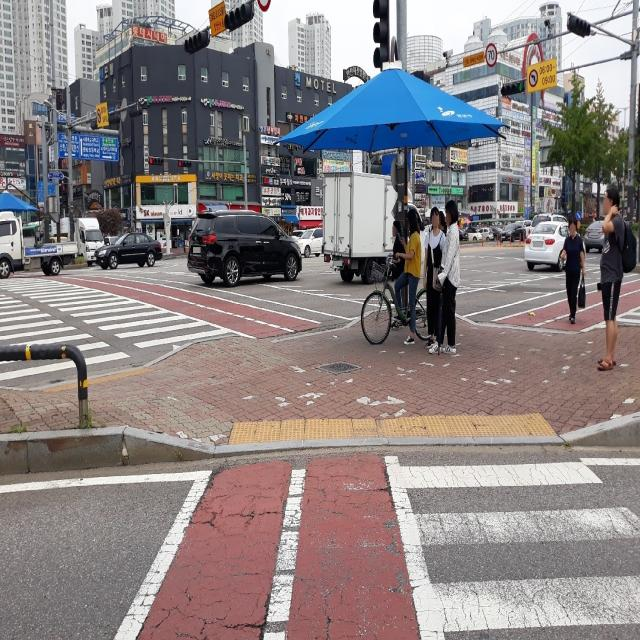횡단보도: (401, 461, 640, 639), (2, 284, 90, 332), (95, 304, 158, 357)
